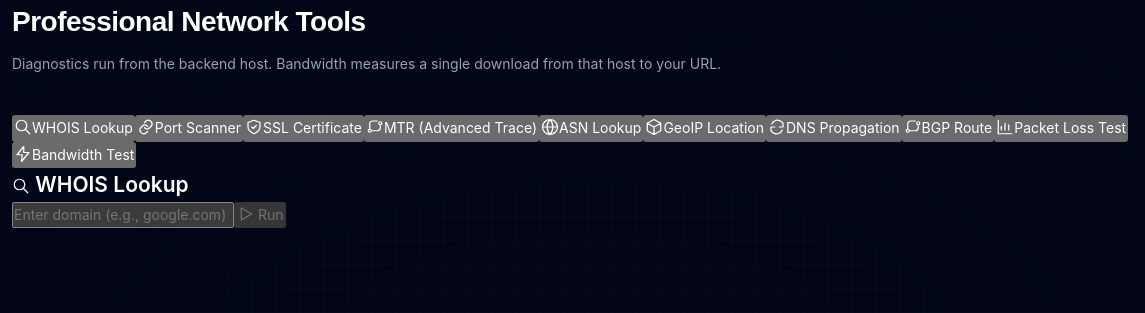
Test: shows an explicit empty scan result
The image size is (1145, 313).
Step 1. Click the button "Port Scanner" → (189, 128), box left=135, top=115, right=243, bottom=142
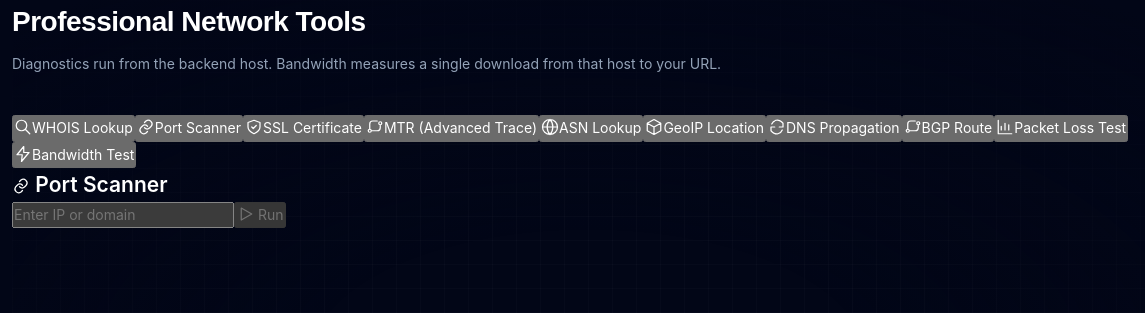
Step 2. Type "localhost" into the field with placeholder "Enter IP or domain" → (123, 215), box left=12, top=202, right=234, bottom=228
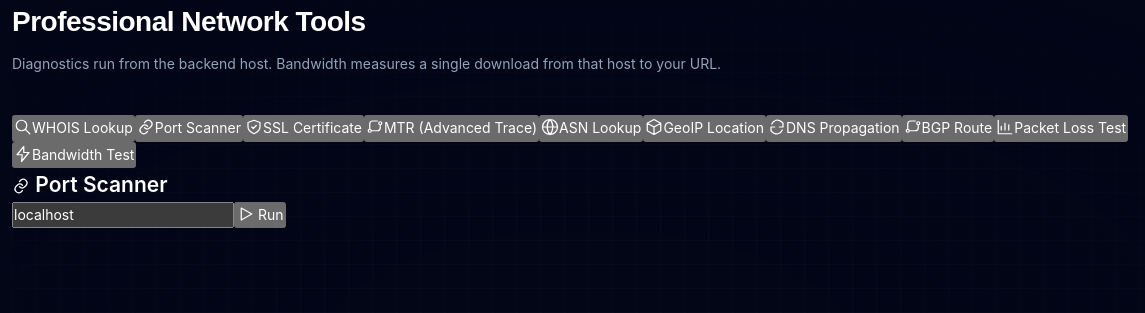
Step 3. Click the button "Run" → (260, 215), box left=234, top=202, right=286, bottom=228
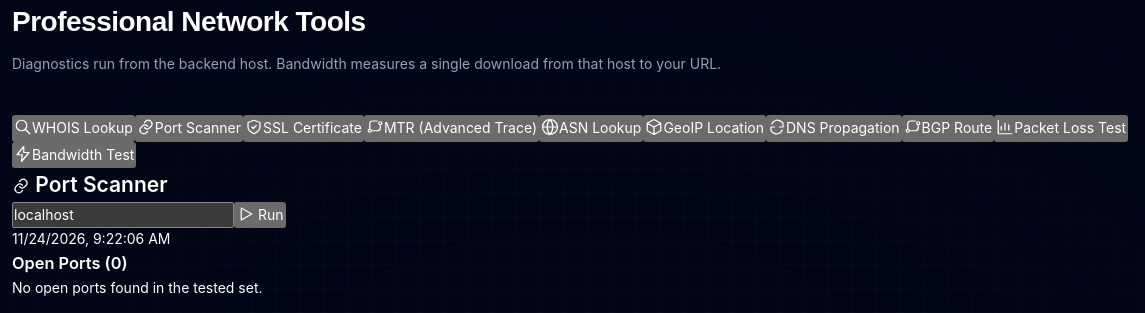
Now the text "No open ports found in the tested set." is shown, box left=12, top=278, right=262, bottom=296
